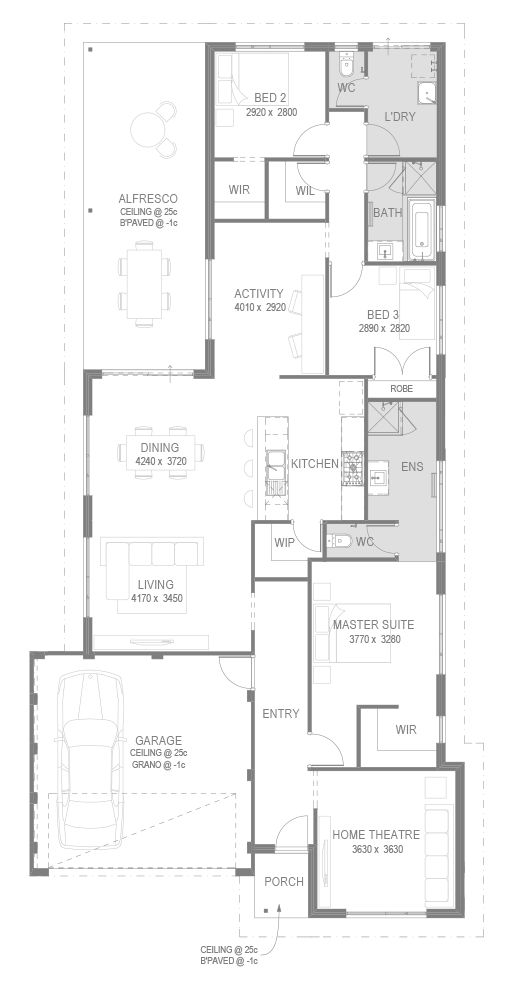door: (370, 343, 433, 377), (327, 262, 365, 298), (289, 121, 327, 157), (366, 121, 404, 157), (291, 158, 329, 194), (363, 159, 401, 195), (272, 812, 310, 845), (308, 733, 346, 766), (215, 655, 253, 688), (287, 521, 325, 554), (360, 522, 399, 554)
room: (308, 558, 446, 708), (205, 42, 329, 161), (324, 261, 446, 379)
window: (434, 458, 447, 553), (81, 413, 94, 496), (81, 534, 94, 617), (434, 592, 447, 675), (203, 256, 215, 341), (434, 283, 447, 356), (346, 907, 429, 918), (234, 41, 306, 52), (435, 204, 447, 253)
